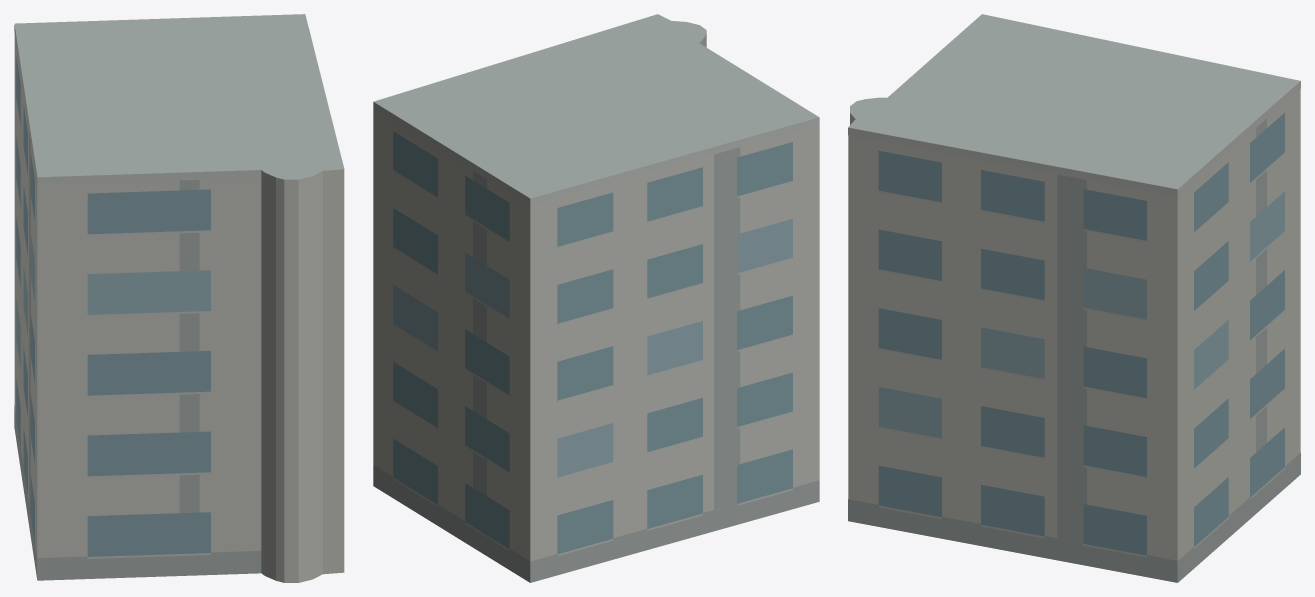
Rendered from survey-upis-32727011.glb.
3 views of the same model, side by side, from view 1: azimuth 30°, elevation 25°; view 2: azimuth 150°, elevation 25°; view 3: azimuth 270°, elevation 25° (orthographic). The views are drawn at different scales.
Visible parts, largest first — view 1: survey-upis-32727011.tmp; view 2: survey-upis-32727011.tmp; view 3: survey-upis-32727011.tmp.
Part boxes in pixels (x1=…): survey-upis-32727011.tmp: x1=14, y1=14, x2=344, y2=582; survey-upis-32727011.tmp: x1=373, y1=14, x2=819, y2=582; survey-upis-32727011.tmp: x1=848, y1=14, x2=1300, y2=582.
Size of the model in its own units: 11.95 by 12.5 by 13.03.
